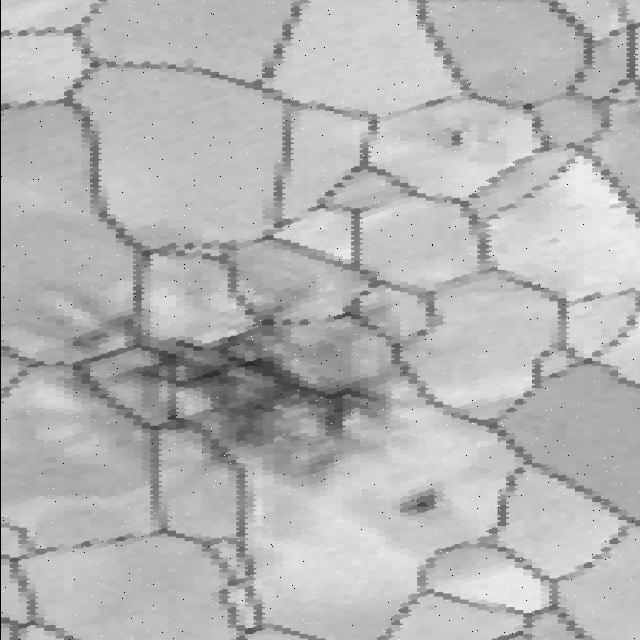good_void: (47, 293, 405, 486), (426, 112, 485, 149), (390, 486, 440, 522)
